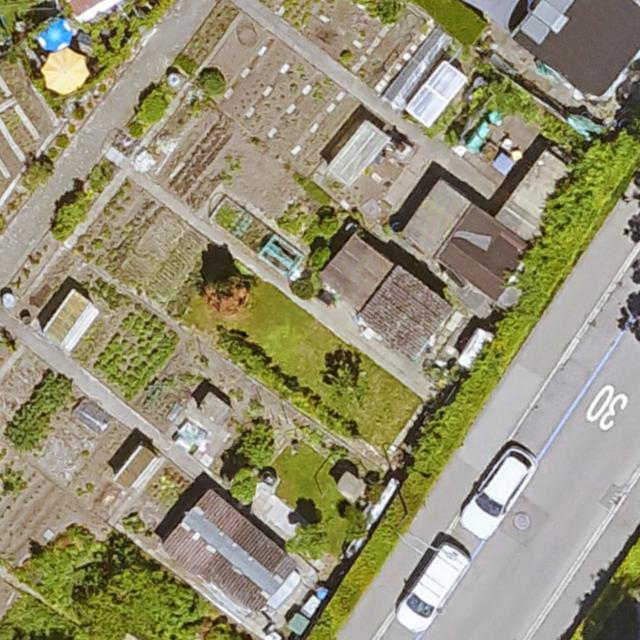tree: (76, 563, 175, 640), (321, 355, 370, 401), (203, 271, 251, 315)
